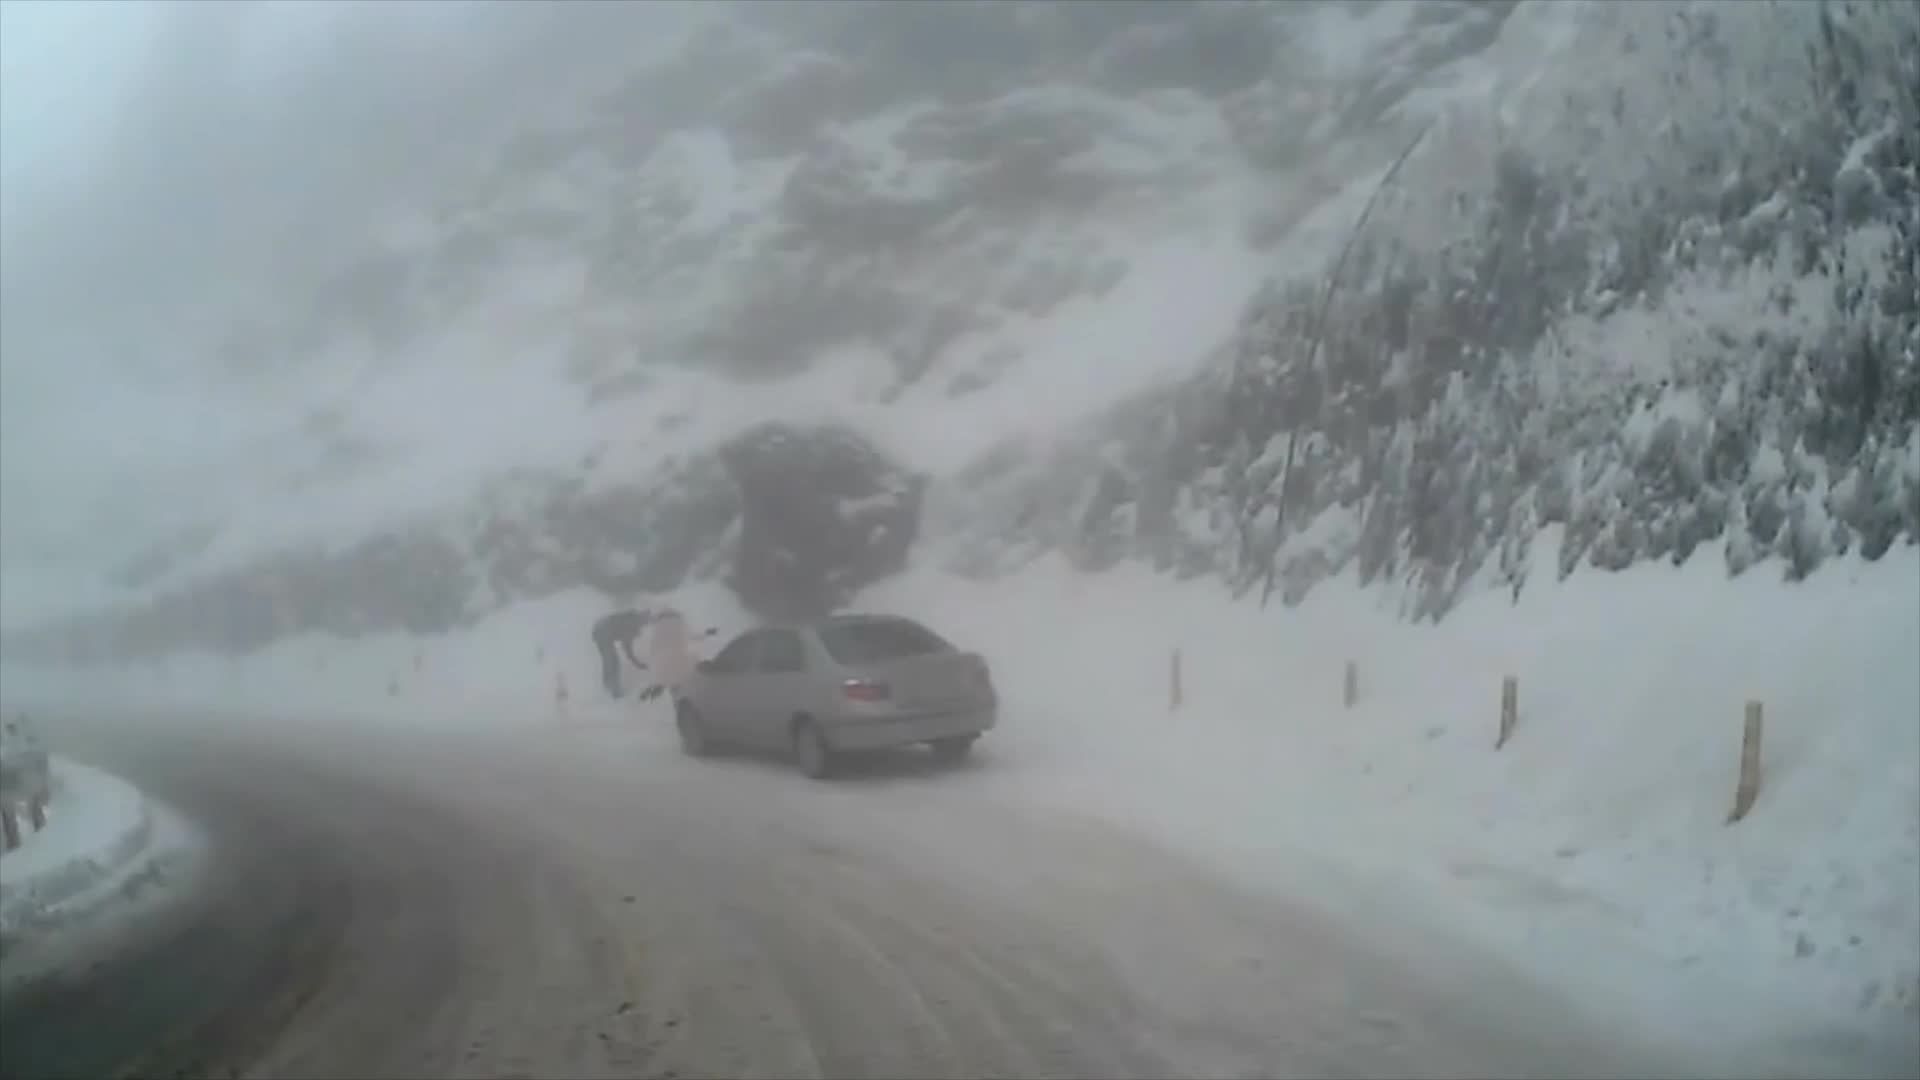pedestrian: (639, 599, 719, 730), (593, 609, 665, 704)
vehicle: (677, 614, 1001, 771)
